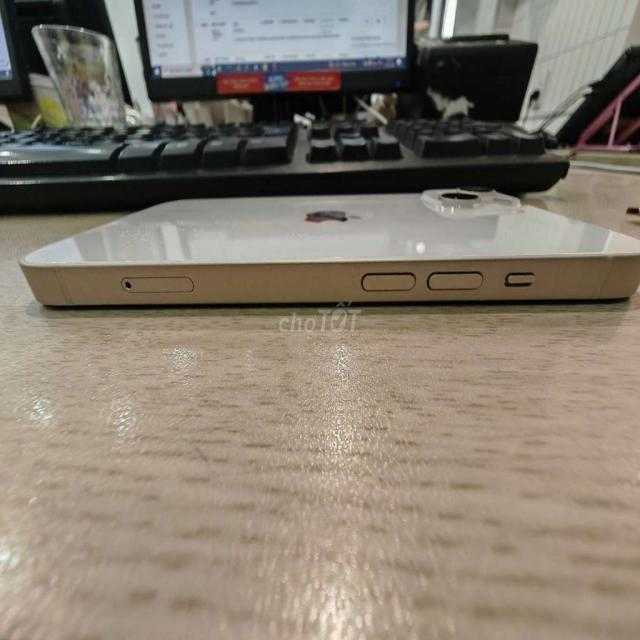gen_12_13: (13, 186, 640, 311)
